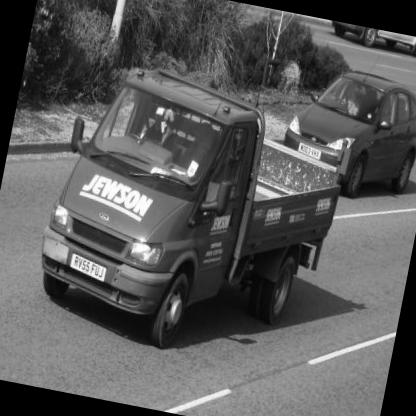car: (277, 53, 416, 200)
truck: (1, 43, 376, 386)
